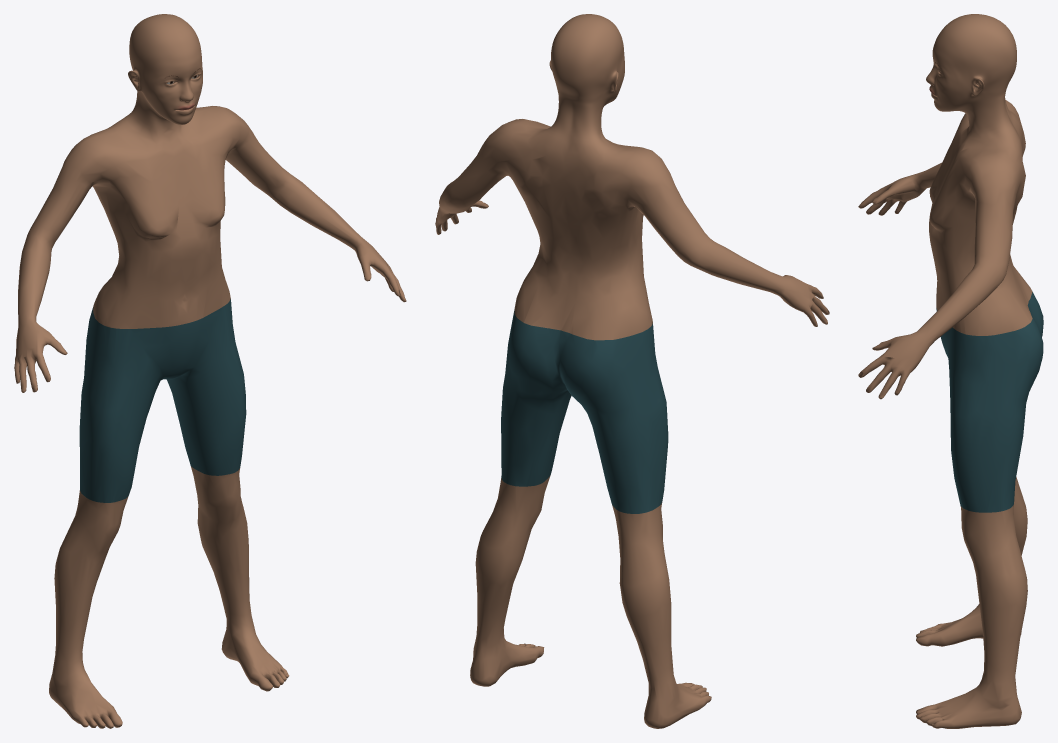
File: lab-body-face-v2-ultra.glb
3 views of the same model, side by side, from view 1: azimuth 30°, elevation 25°; view 2: azimuth 150°, elevation 25°; view 3: azimuth 270°, elevation 25° (orthographic).
Visible parts, largest first — view 1: part-skin; view 2: part-skin; view 3: part-skin.
Part boxes in pixels (x1=…): part-skin: x1=14, y1=14, x2=406, y2=728; part-skin: x1=435, y1=14, x2=829, y2=728; part-skin: x1=858, y1=14, x2=1043, y2=728.
Bounding box in the file's own units: 104 × 175 × 44.21.
